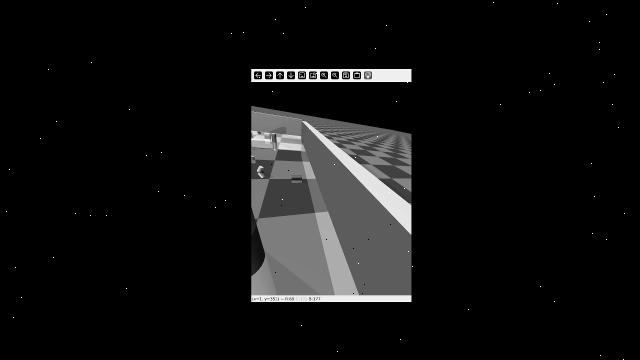cilindro: (250, 196, 268, 275), (290, 174, 304, 182), (256, 165, 266, 174), (270, 133, 278, 143)
cuadrado: (263, 131, 270, 140)
esfera: (250, 129, 254, 136), (257, 129, 260, 133), (259, 131, 262, 133)
rectangulo: (251, 156, 258, 161)
